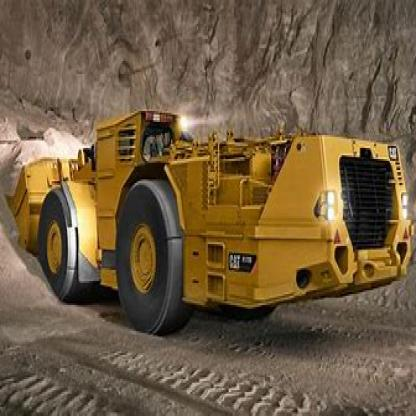bull_dozer/loader/grader: (6, 83, 415, 351)
